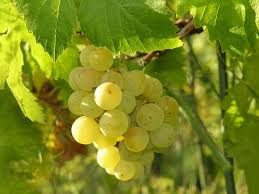grapes: (60, 38, 181, 181)
